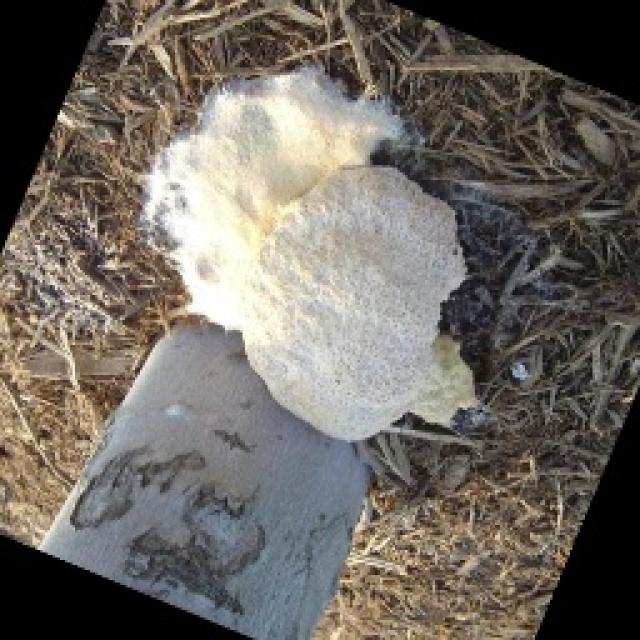Dog_vomit_slime_mold: (92, 77, 530, 462)
